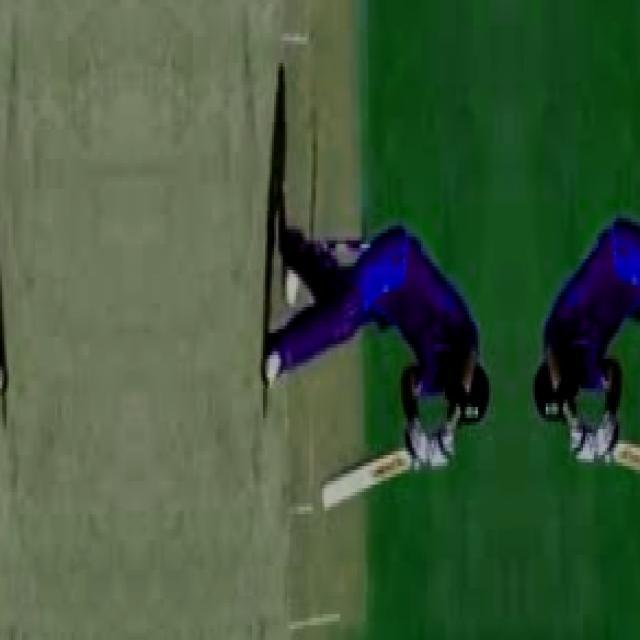bat: (311, 453, 415, 508)
toe: (313, 485, 331, 514)
